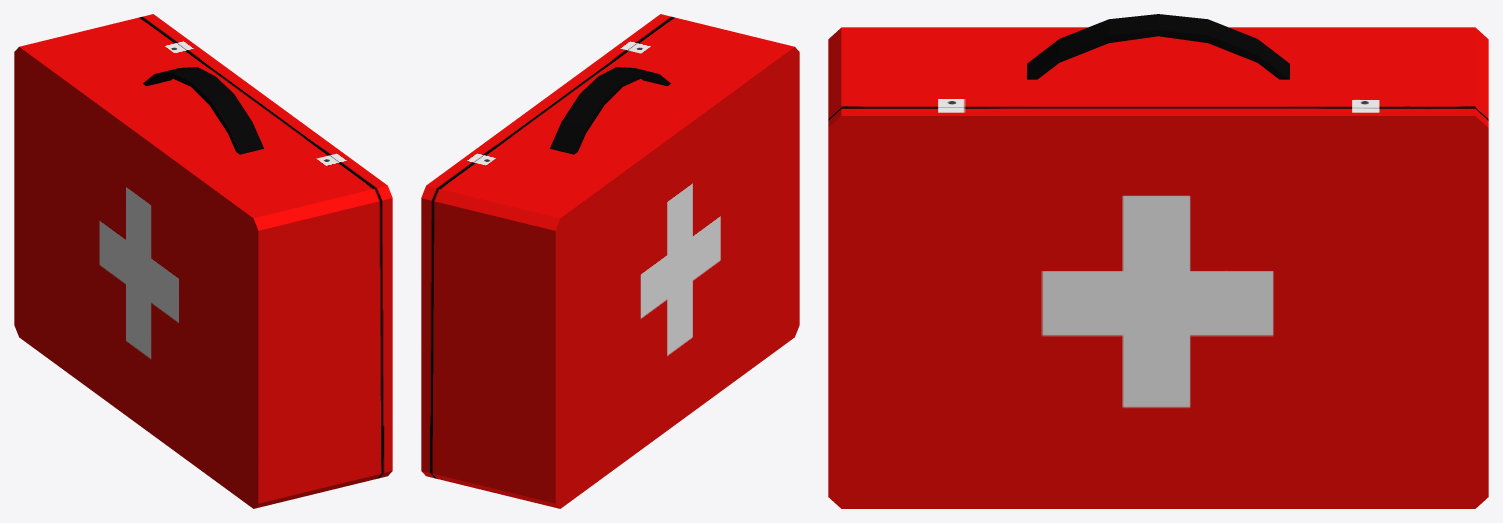
The model's file is medkit.glb.
3 views of the same model, side by side, from view 1: azimuth 30°, elevation 25°; view 2: azimuth 150°, elevation 25°; view 3: azimuth 270°, elevation 25° (orthographic). The views are drawn at different scales.
Visible parts, largest first — view 1: Medkit; view 2: Medkit; view 3: Medkit.
Part boxes in pixels (bbox=[...]): Medkit: bbox=[14, 14, 392, 508]; Medkit: bbox=[421, 14, 799, 508]; Medkit: bbox=[828, 14, 1488, 508].
Size of the model in its own units: 0.6349 by 1.48 by 2.
1 material, 1 textured.
